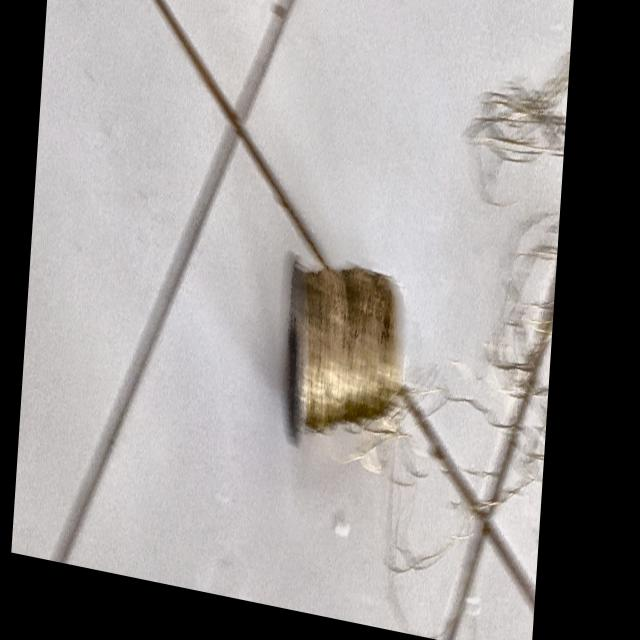Wire Coil: (274, 235, 414, 476)
